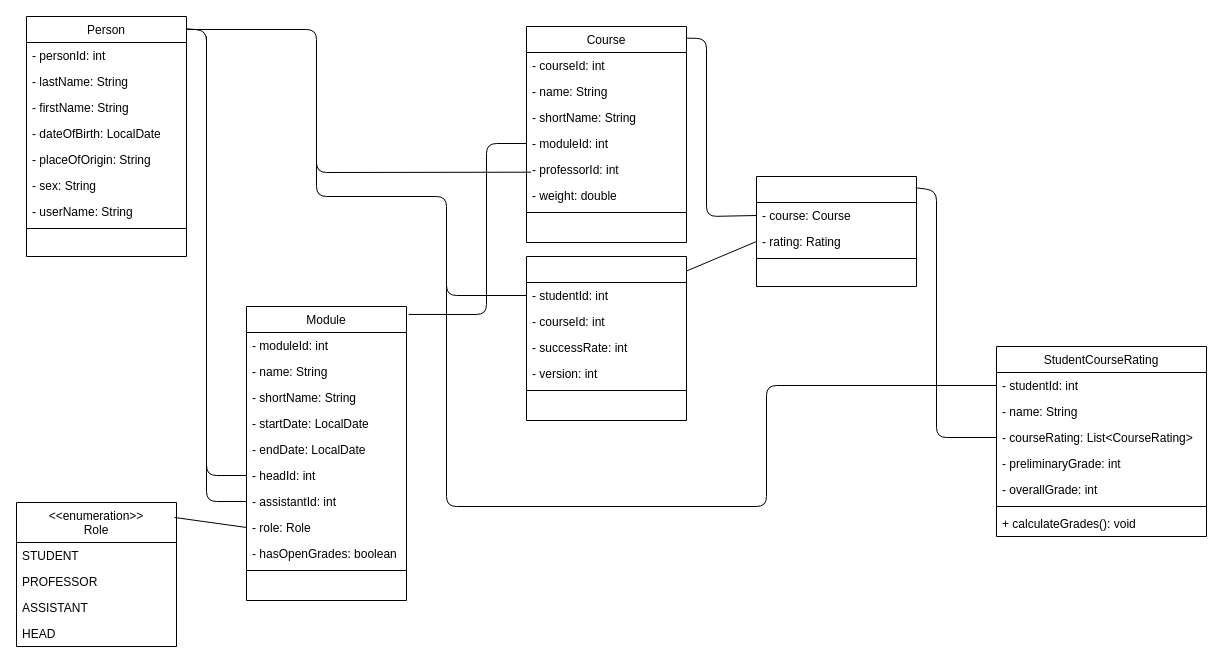
This 1223x663 diagram has some shape labels left out. The shapes that lost their labels are listed below. From the top down, each one's box as (x1, y1, x2, y2) in pixels, then its label:
(756, 176, 916, 286): CourseRating
(526, 256, 686, 420): Rating
